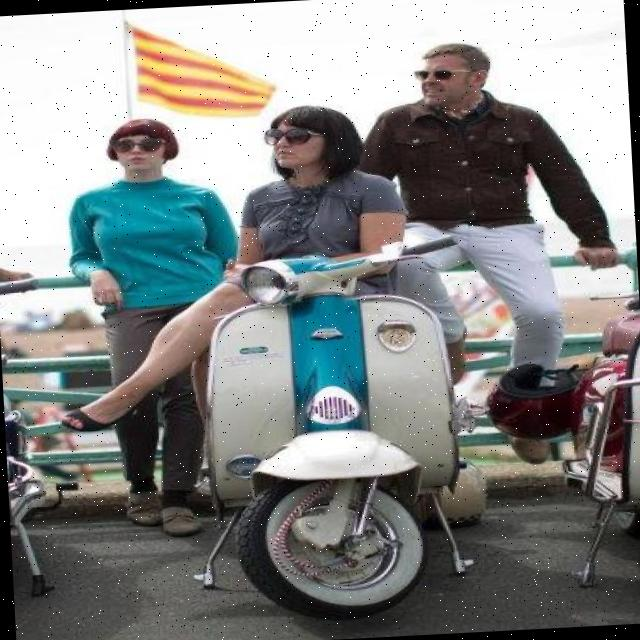No helmet: (263, 98, 359, 190)
